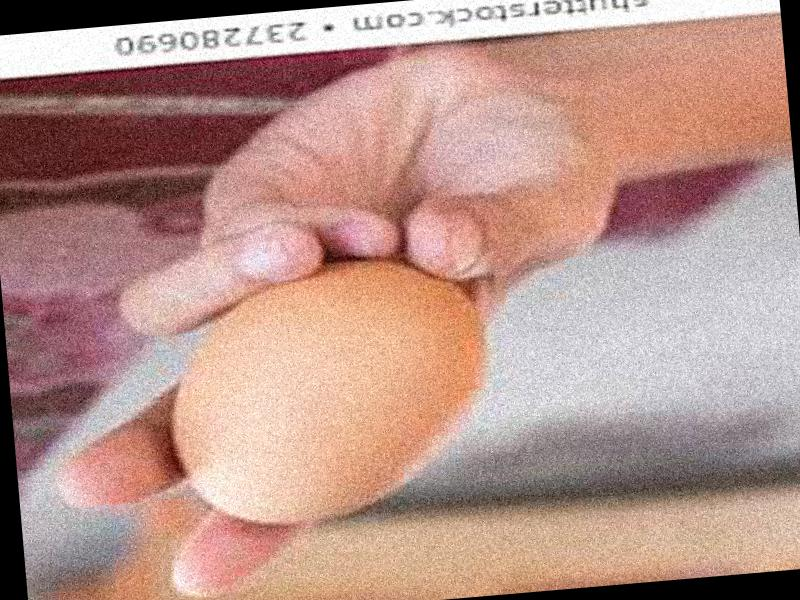Eggs: (156, 252, 495, 531)
